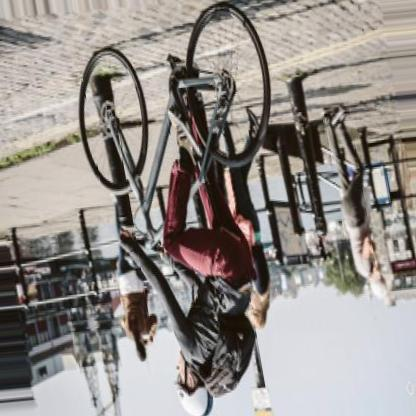with helmet: (171, 354, 216, 416)
